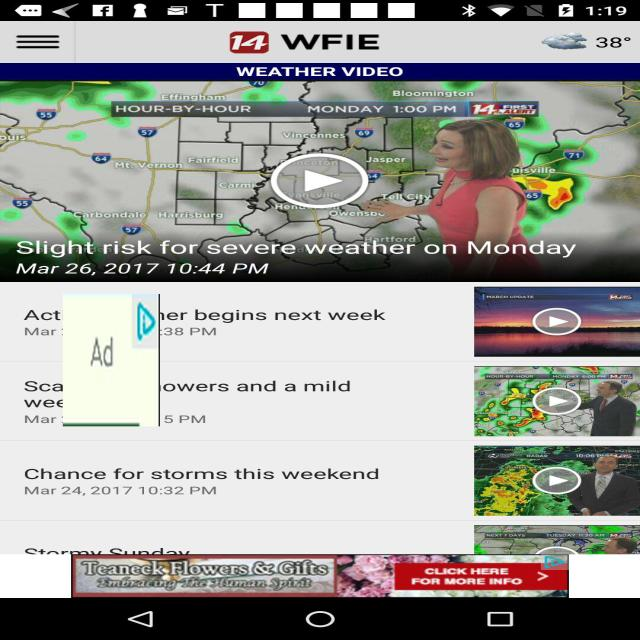sneaking: (63, 294, 160, 426)
